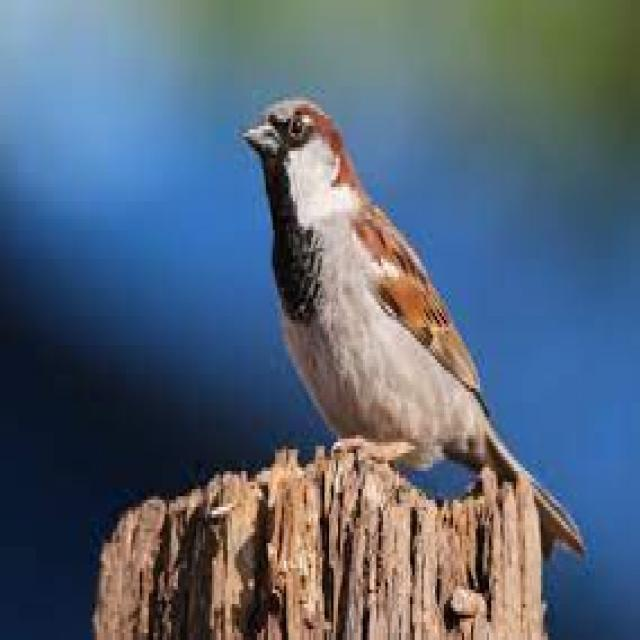bird: (236, 91, 594, 574)
